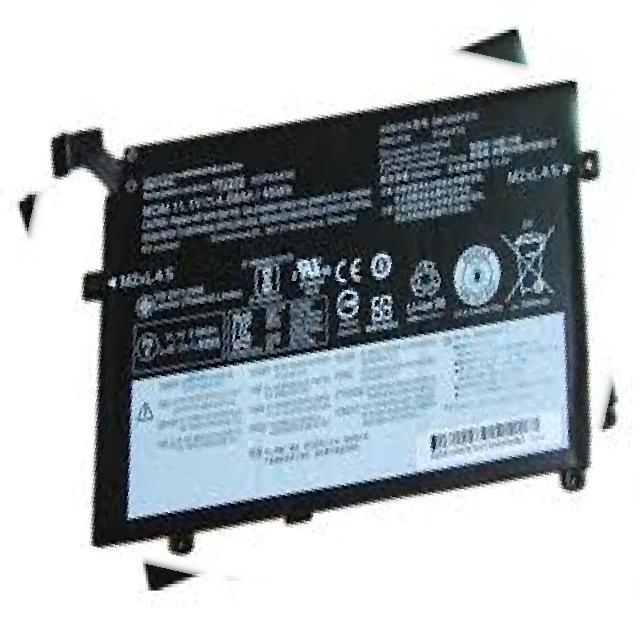Battery: (22, 68, 626, 537)
